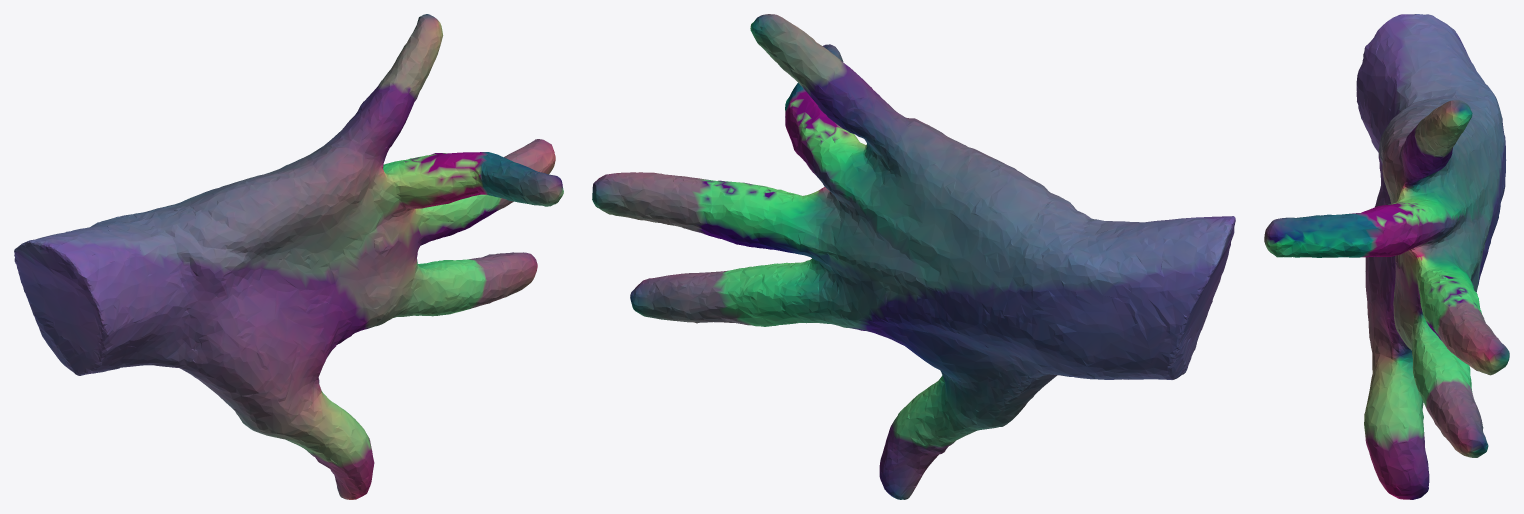
The model's file is hand-18.off.obj.
3 views of the same model, side by side, from view 1: azimuth 30°, elevation 25°; view 2: azimuth 150°, elevation 25°; view 3: azimuth 270°, elevation 25° (orthographic). The views are drawn at different scales.
Bounding box in the file's own units: 1.74 × 1.31 × 0.6505.
